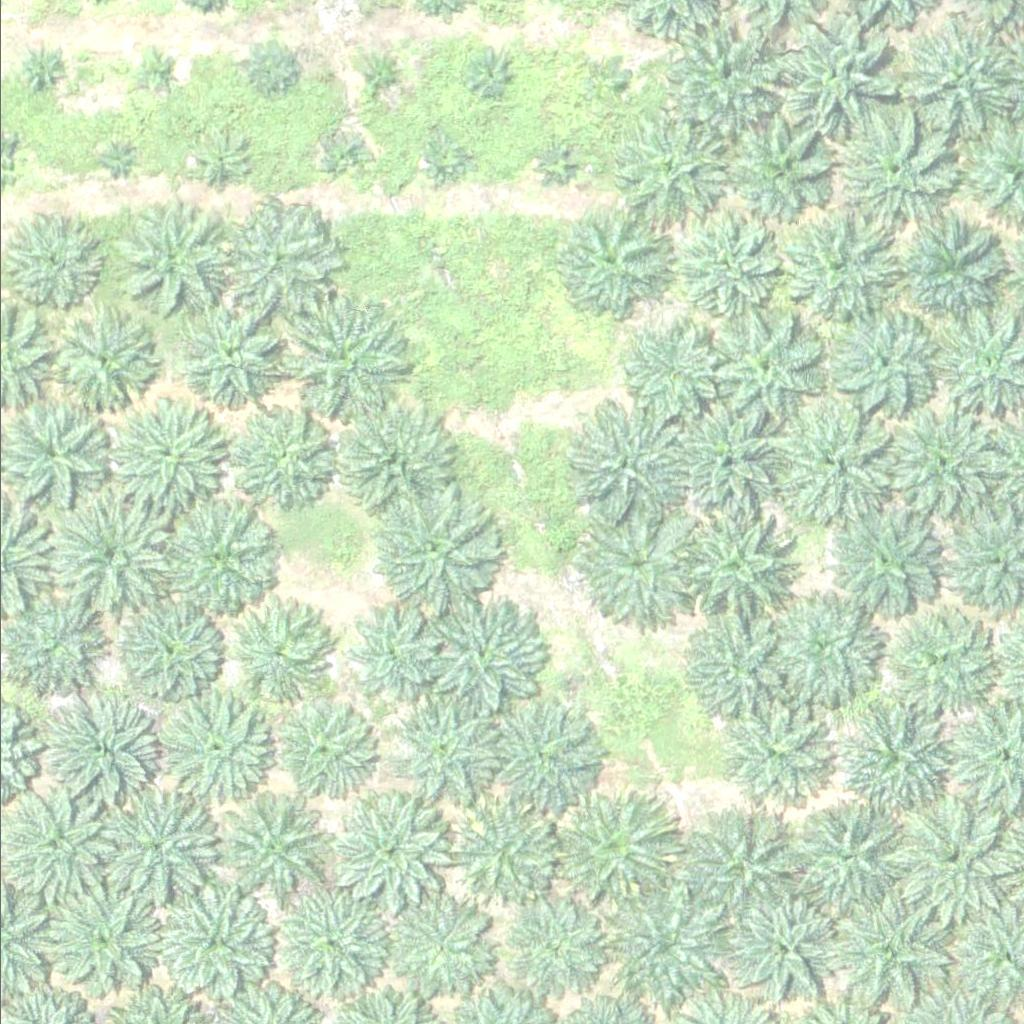Kelapa_Sawit: (764, 13, 890, 138), (649, 13, 775, 138), (834, 110, 960, 235), (721, 100, 847, 225), (697, 301, 823, 426), (877, 406, 1003, 531), (769, 405, 895, 530), (561, 401, 687, 526), (676, 500, 802, 625), (572, 504, 698, 629), (887, 793, 1013, 918), (418, 591, 544, 716), (365, 485, 491, 610), (280, 302, 406, 427), (47, 492, 173, 617), (157, 494, 283, 619), (877, 592, 1002, 717), (759, 581, 884, 706), (544, 784, 669, 909), (672, 202, 786, 315), (779, 214, 893, 327), (610, 315, 724, 428), (338, 404, 452, 517), (554, 206, 667, 319), (892, 217, 1005, 330), (826, 501, 939, 614), (681, 607, 794, 720), (724, 894, 837, 1007), (828, 891, 941, 1004), (337, 798, 450, 911), (210, 795, 323, 908), (97, 789, 210, 902), (163, 688, 276, 801), (46, 882, 159, 995), (112, 394, 225, 507), (40, 689, 154, 801), (606, 113, 719, 225), (822, 307, 935, 419), (666, 399, 779, 511), (718, 698, 831, 810), (843, 705, 956, 817), (786, 802, 899, 914), (688, 809, 801, 921), (601, 891, 714, 1003), (385, 889, 498, 1001), (275, 890, 388, 1002), (159, 888, 272, 1000), (220, 203, 333, 315), (114, 212, 227, 324), (504, 896, 605, 996), (454, 802, 555, 902), (492, 712, 593, 812), (394, 700, 495, 800), (273, 696, 374, 796), (341, 602, 442, 702), (182, 305, 283, 405), (54, 311, 155, 411), (227, 600, 327, 700), (118, 598, 218, 698), (234, 404, 334, 504), (5, 221, 93, 308), (238, 36, 301, 99), (193, 135, 244, 185), (358, 51, 409, 101), (468, 49, 518, 99), (321, 135, 371, 185), (531, 138, 581, 188), (420, 134, 470, 184), (585, 57, 635, 107), (131, 46, 181, 96), (17, 45, 67, 95), (101, 147, 126, 172)
